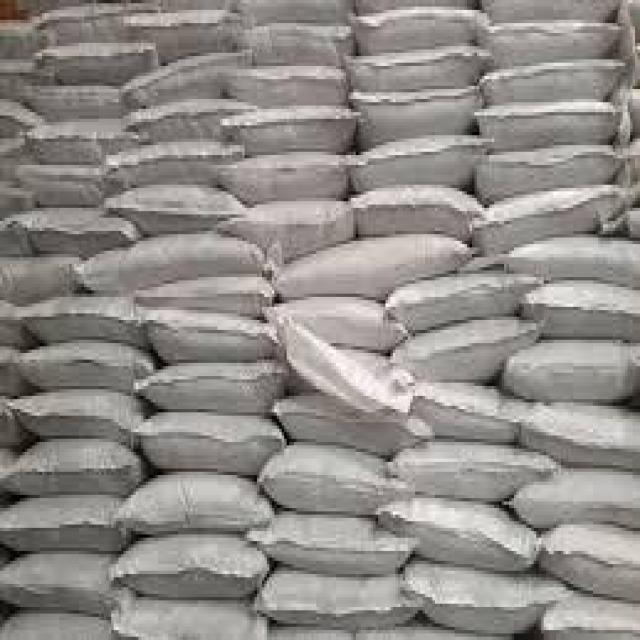gunny_bag: (280, 229, 463, 304), (401, 313, 535, 384), (406, 502, 536, 575), (395, 266, 527, 332), (83, 240, 255, 290), (490, 179, 611, 243), (492, 52, 627, 108), (489, 137, 605, 201), (274, 517, 410, 571), (135, 42, 247, 106), (289, 399, 417, 455), (7, 557, 120, 620), (276, 573, 412, 625), (515, 339, 637, 396), (278, 453, 393, 509), (363, 130, 473, 188), (404, 450, 544, 495), (356, 40, 484, 89), (546, 531, 640, 597), (148, 412, 274, 460), (131, 545, 251, 594), (235, 99, 347, 151), (501, 12, 613, 64), (131, 490, 265, 533), (415, 387, 516, 444), (419, 571, 555, 613), (480, 99, 615, 141), (352, 188, 475, 234), (536, 406, 640, 460), (12, 444, 131, 491), (7, 500, 125, 547), (125, 182, 246, 227), (152, 309, 267, 356), (520, 240, 639, 285), (22, 396, 133, 444), (148, 365, 276, 406), (231, 148, 338, 196), (26, 297, 131, 344), (358, 89, 480, 128), (116, 144, 229, 186), (237, 21, 350, 63), (367, 9, 479, 50), (242, 201, 345, 245), (284, 302, 403, 339), (536, 483, 640, 521), (22, 214, 124, 252), (29, 349, 137, 384), (31, 120, 142, 151), (44, 43, 151, 71), (33, 83, 120, 113)
